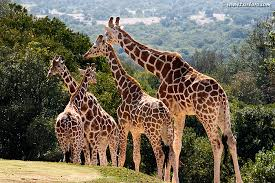Jirafa: (98, 13, 142, 57), (43, 48, 73, 88), (83, 31, 113, 69), (74, 60, 106, 95)
